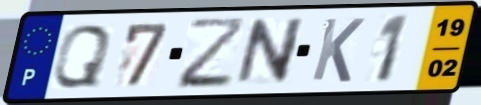1: (370, 12, 412, 86)
7: (123, 20, 168, 89)
K: (308, 16, 367, 85)
N: (231, 15, 308, 88)
Q: (49, 22, 115, 91)
Z: (176, 15, 249, 92)
